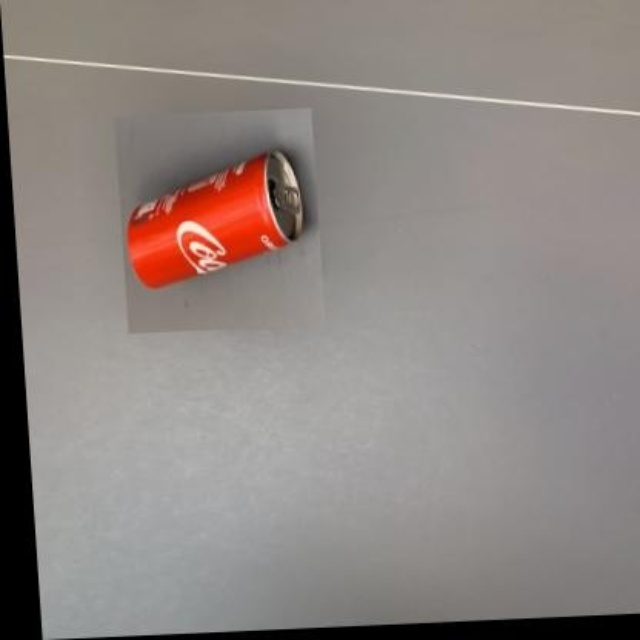trash: (128, 149, 302, 286)
